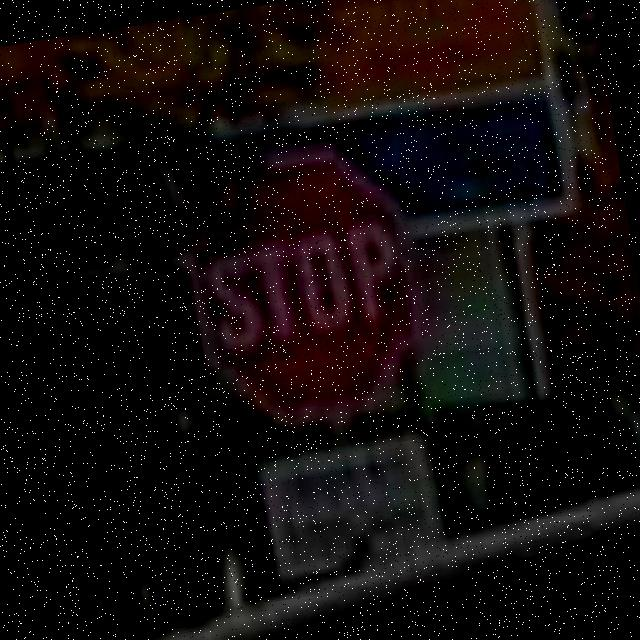Stop: (192, 219, 437, 438)
